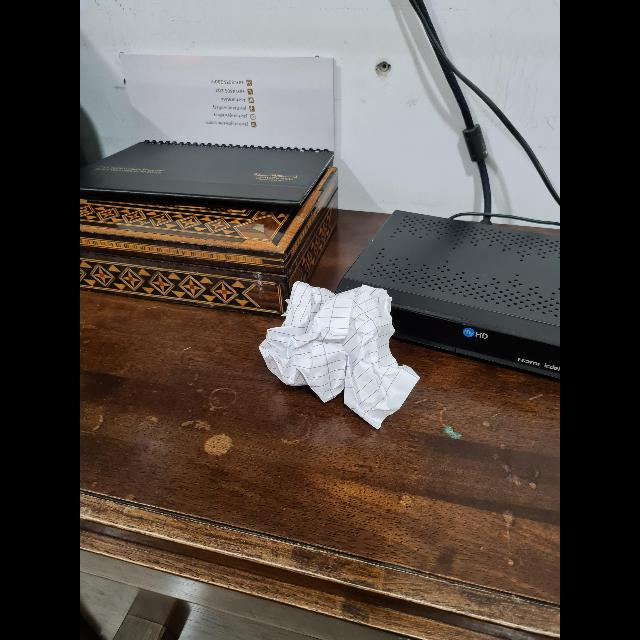scrap_paper: (266, 284, 422, 426)
